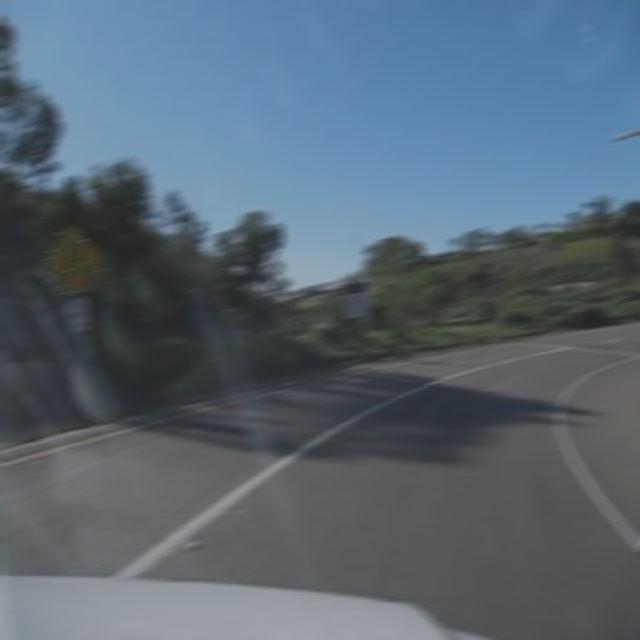laneEnds: (46, 222, 100, 296)
